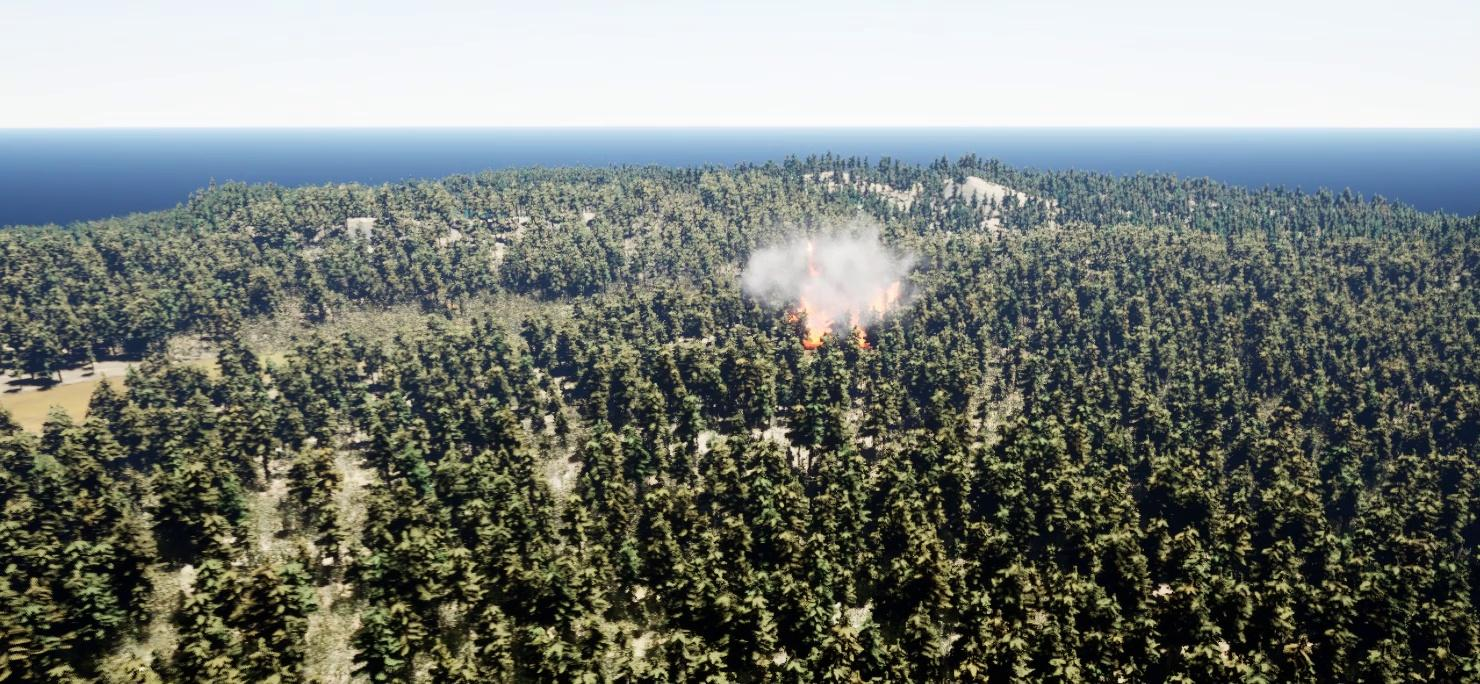fire: (800, 299, 875, 350)
smoke: (736, 227, 926, 337)
